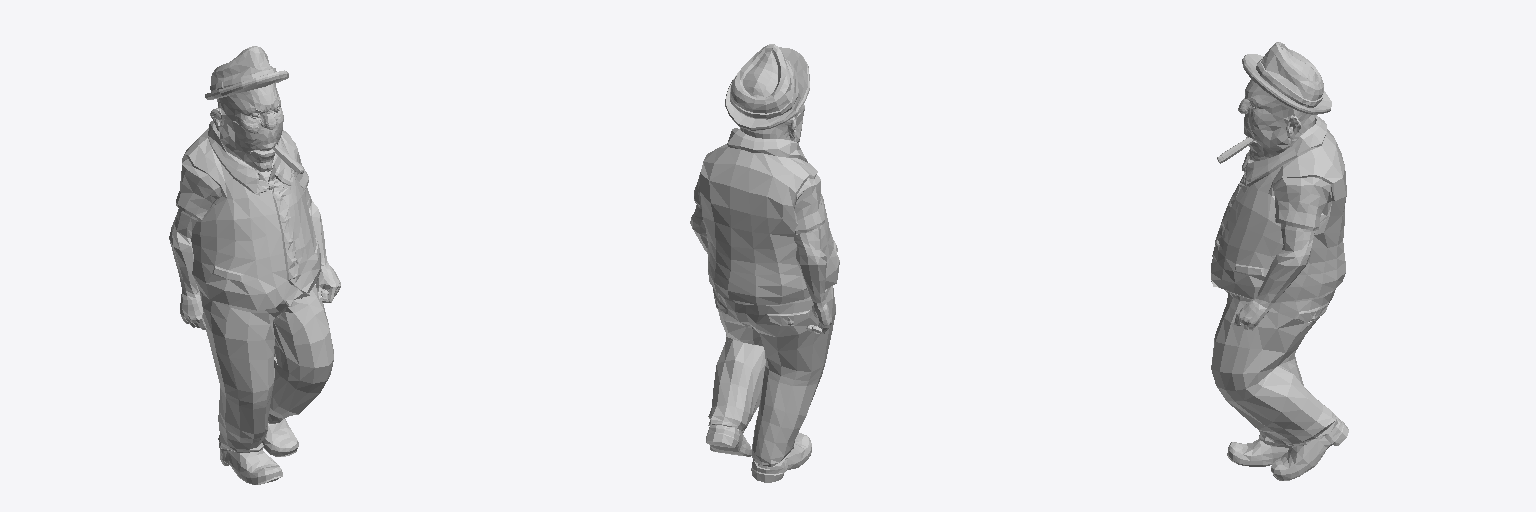
The model's file is walk0047.obj.
3 views of the same model, side by side, from view 1: azimuth 30°, elevation 25°; view 2: azimuth 150°, elevation 25°; view 3: azimuth 270°, elevation 25° (orthographic).
Visible parts, largest first — view 1: mixamorig:Jacket_Geo, mixamorig:Pants_Geo, mixamorig:Head_Geo, mixamorig:Arms_Geo, mixamorig:Shoes_Geo, mixamorig:Hat_Geo; view 2: mixamorig:Jacket_Geo, mixamorig:Pants_Geo, mixamorig:Hat_Geo, mixamorig:Arms_Geo, mixamorig:Shoes_Geo, mixamorig:Head_Geo; view 3: mixamorig:Jacket_Geo, mixamorig:Pants_Geo, mixamorig:Hat_Geo, mixamorig:Head_Geo, mixamorig:Shoes_Geo, mixamorig:Arms_Geo.
Part boxes in pixels (bbox=[...]): mixamorig:Jacket_Geo: bbox=[176, 121, 320, 310]; mixamorig:Pants_Geo: bbox=[200, 285, 333, 452]; mixamorig:Head_Geo: bbox=[210, 83, 283, 181]; mixamorig:Arms_Geo: bbox=[169, 187, 340, 329]; mixamorig:Shoes_Geo: bbox=[220, 419, 298, 484]; mixamorig:Hat_Geo: bbox=[205, 46, 288, 99]; mixamorig:Jacket_Geo: bbox=[694, 128, 839, 304]; mixamorig:Pants_Geo: bbox=[708, 286, 835, 466]; mixamorig:Hat_Geo: bbox=[725, 44, 809, 130]; mixamorig:Arms_Geo: bbox=[690, 205, 831, 333]; mixamorig:Shoes_Geo: bbox=[706, 424, 811, 482]; mixamorig:Head_Geo: bbox=[740, 104, 804, 143]; mixamorig:Jacket_Geo: bbox=[1211, 115, 1346, 302]; mixamorig:Pants_Geo: bbox=[1211, 289, 1337, 447]; mixamorig:Hat_Geo: bbox=[1242, 42, 1331, 114]; mixamorig:Head_Geo: bbox=[1238, 79, 1315, 161]; mixamorig:Shoes_Geo: bbox=[1227, 418, 1348, 480]; mixamorig:Arms_Geo: bbox=[1234, 224, 1314, 330].
Size of the model in its own units: 0.6842 by 1.97 by 0.588.